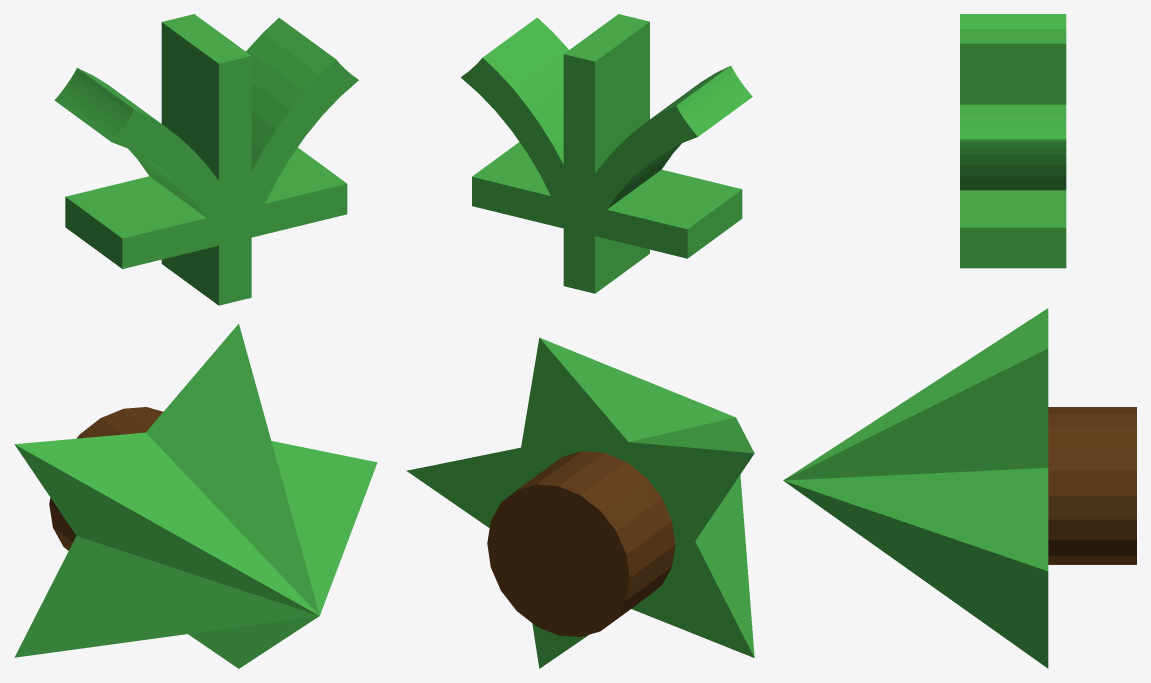
File: tinker.obj
The picture shows the model from 3 angles, left to right: view 1: azimuth 30°, elevation 25°; view 2: azimuth 150°, elevation 25°; view 3: azimuth 270°, elevation 25°; orthographic projection. The views are drawn at different scales.
Visible parts, largest first — view 1: group_0_4634441, group_0_6306067; view 2: group_0_4634441, group_0_6306067; view 3: group_0_4634441, group_0_6306067.
Part boxes in pixels (x1,y1,x2,y2): group_0_4634441: (14,14,377,668); group_0_6306067: (49,407,162,550); group_0_4634441: (406,14,754,668); group_0_6306067: (487,451,675,636); group_0_4634441: (783,14,1066,668); group_0_6306067: (1048,407,1136,564).
Bounding box in the file's own units: 22 × 38 × 20.
